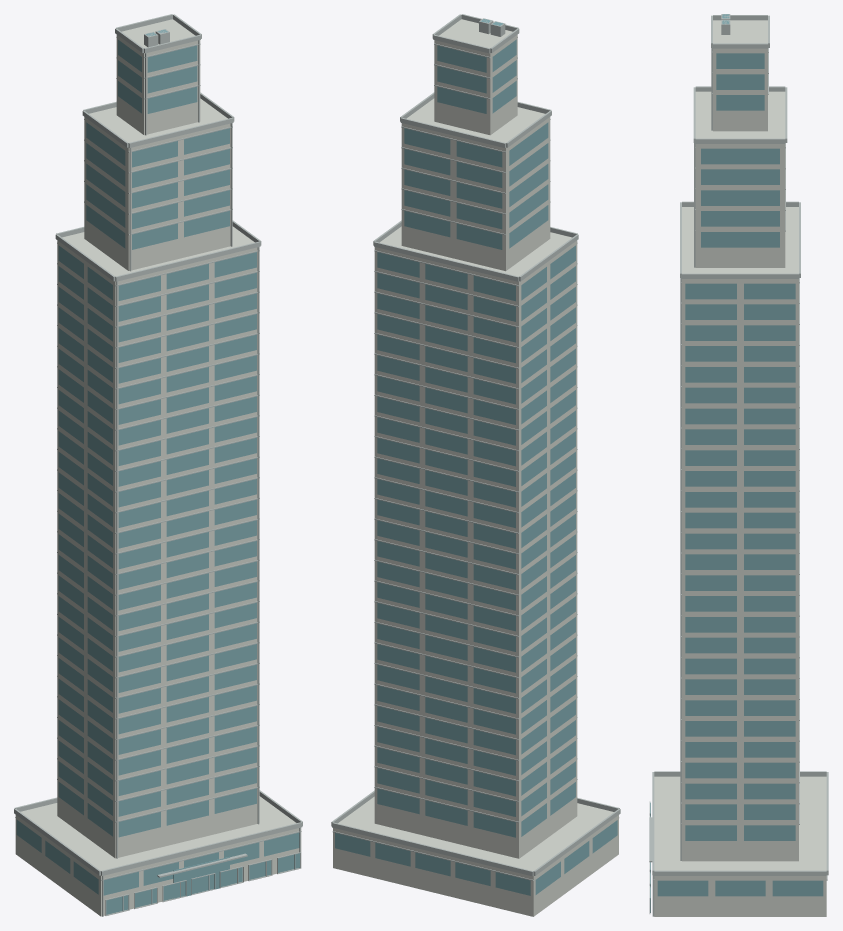
The model's file is commercial_4x3_tower_steps.glb.
3 views of the same model, side by side, from view 1: azimuth 30°, elevation 25°; view 2: azimuth 150°, elevation 25°; view 3: azimuth 270°, elevation 25° (orthographic).
Visible parts, largest first — view 1: commercial_4x3_tower_steps_0; view 2: commercial_4x3_tower_steps_0; view 3: commercial_4x3_tower_steps_0.
Boxes of the visible parts, <box> form: commercial_4x3_tower_steps_0: <box>14,14,302,916</box>; commercial_4x3_tower_steps_0: <box>331,14,620,916</box>; commercial_4x3_tower_steps_0: <box>649,14,828,916</box>.
Bounding box in the file's own units: 31 × 122 × 23.4.
